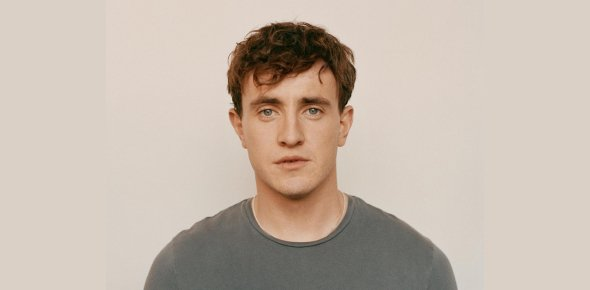NoMask: (248, 90, 338, 200)
